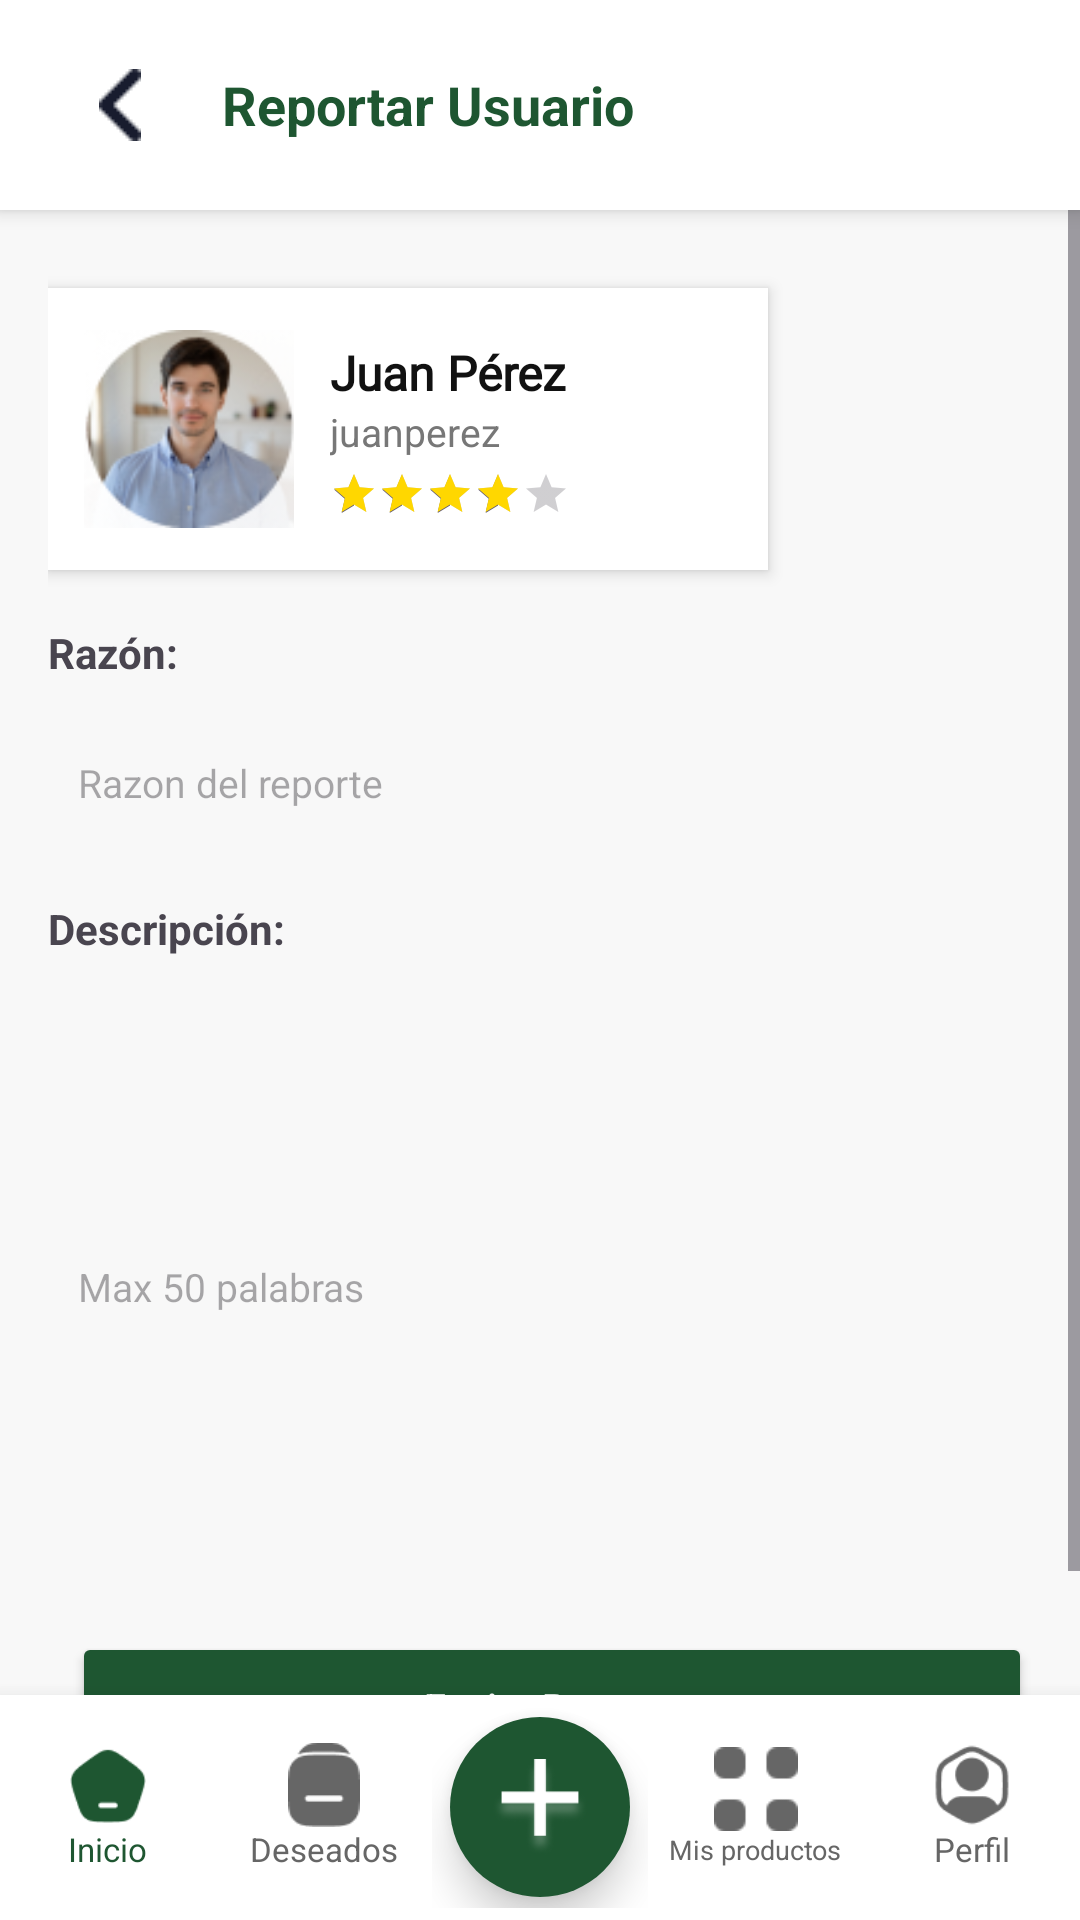

Where to tap for icons on this 1080 × 1920 app screen, as (x,y):
back: (120,105)
Mis publicaciones: (756,1789)
Publicar: (540,1802)
user: (189,429)
